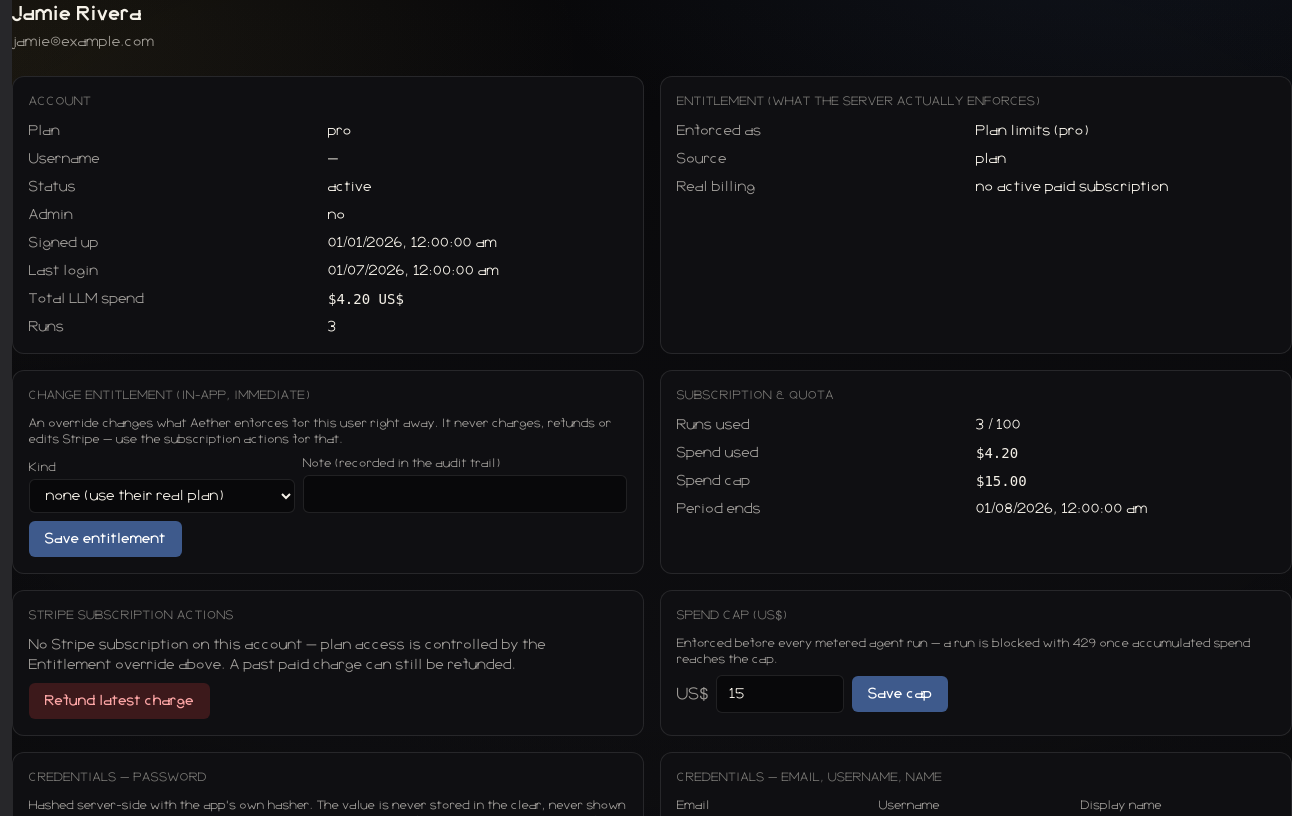
Test: ML-admindetail-001: empty spend-cap must NOT silently save as $0.00 › [regression guard] an explicit 0 the admin deliberately types still saves successfully
Replace the text in the field named "Spend cap in US dollars" with "0" at (780, 694), box [716,675,844,713]
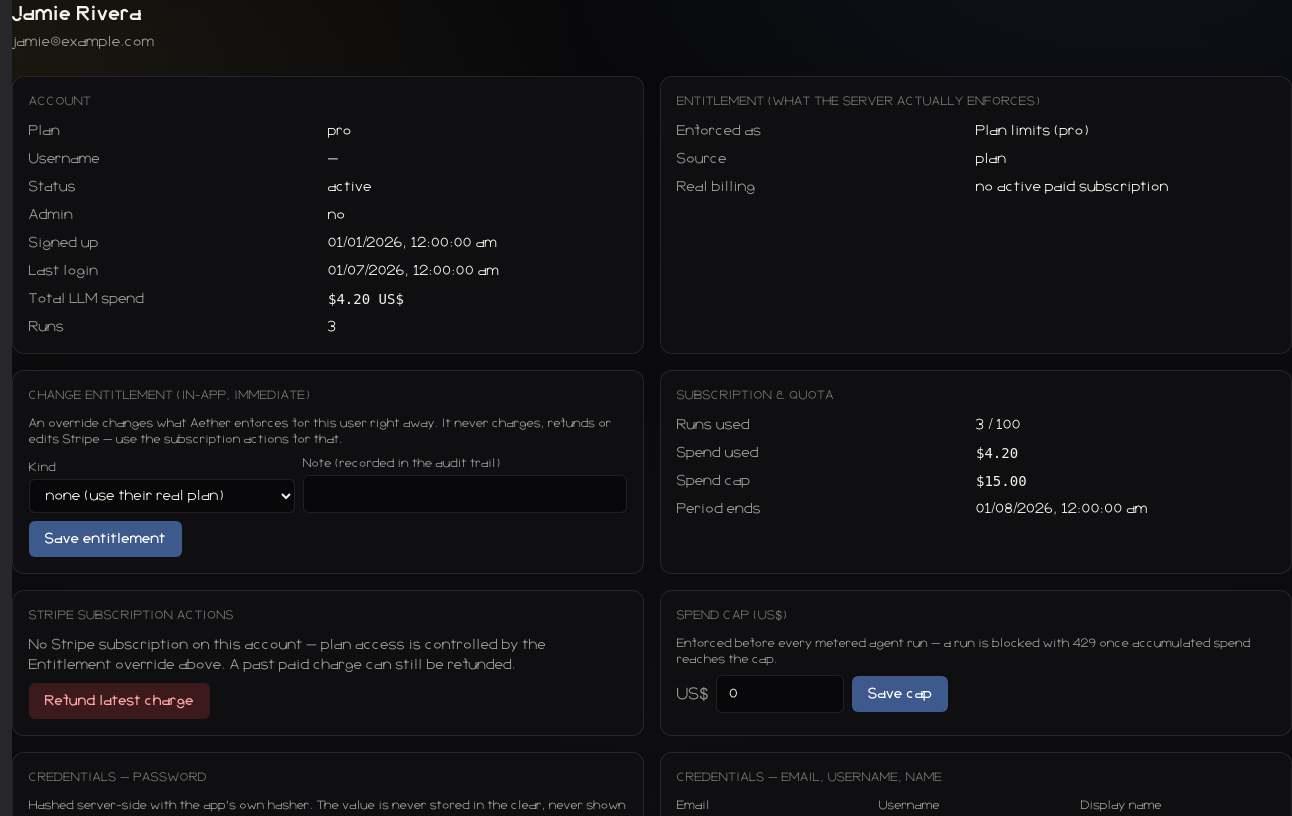
Click the button "Save cap" at (900, 694), box [852,676,948,712]
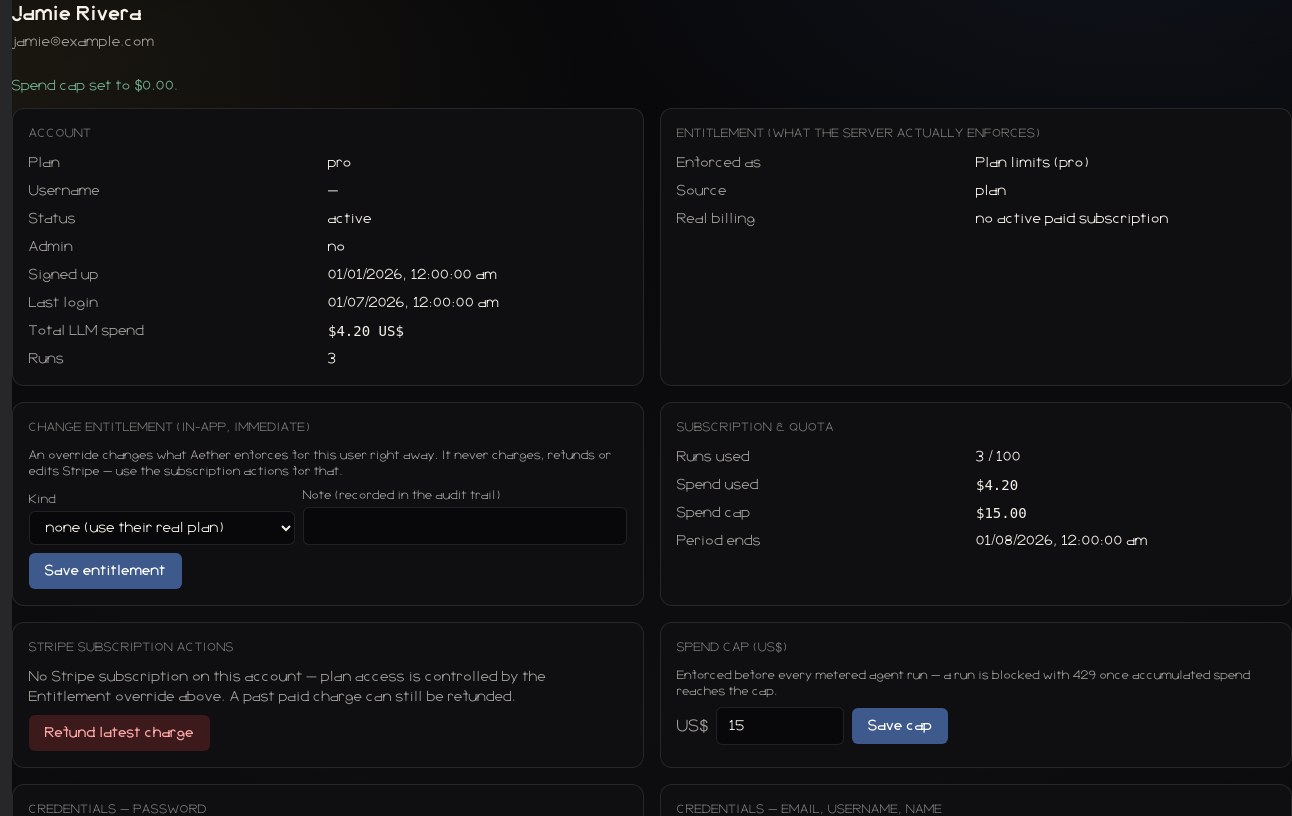
Check: the message "Spend cap set to $0.00." is shown, box [12,79,179,93]
